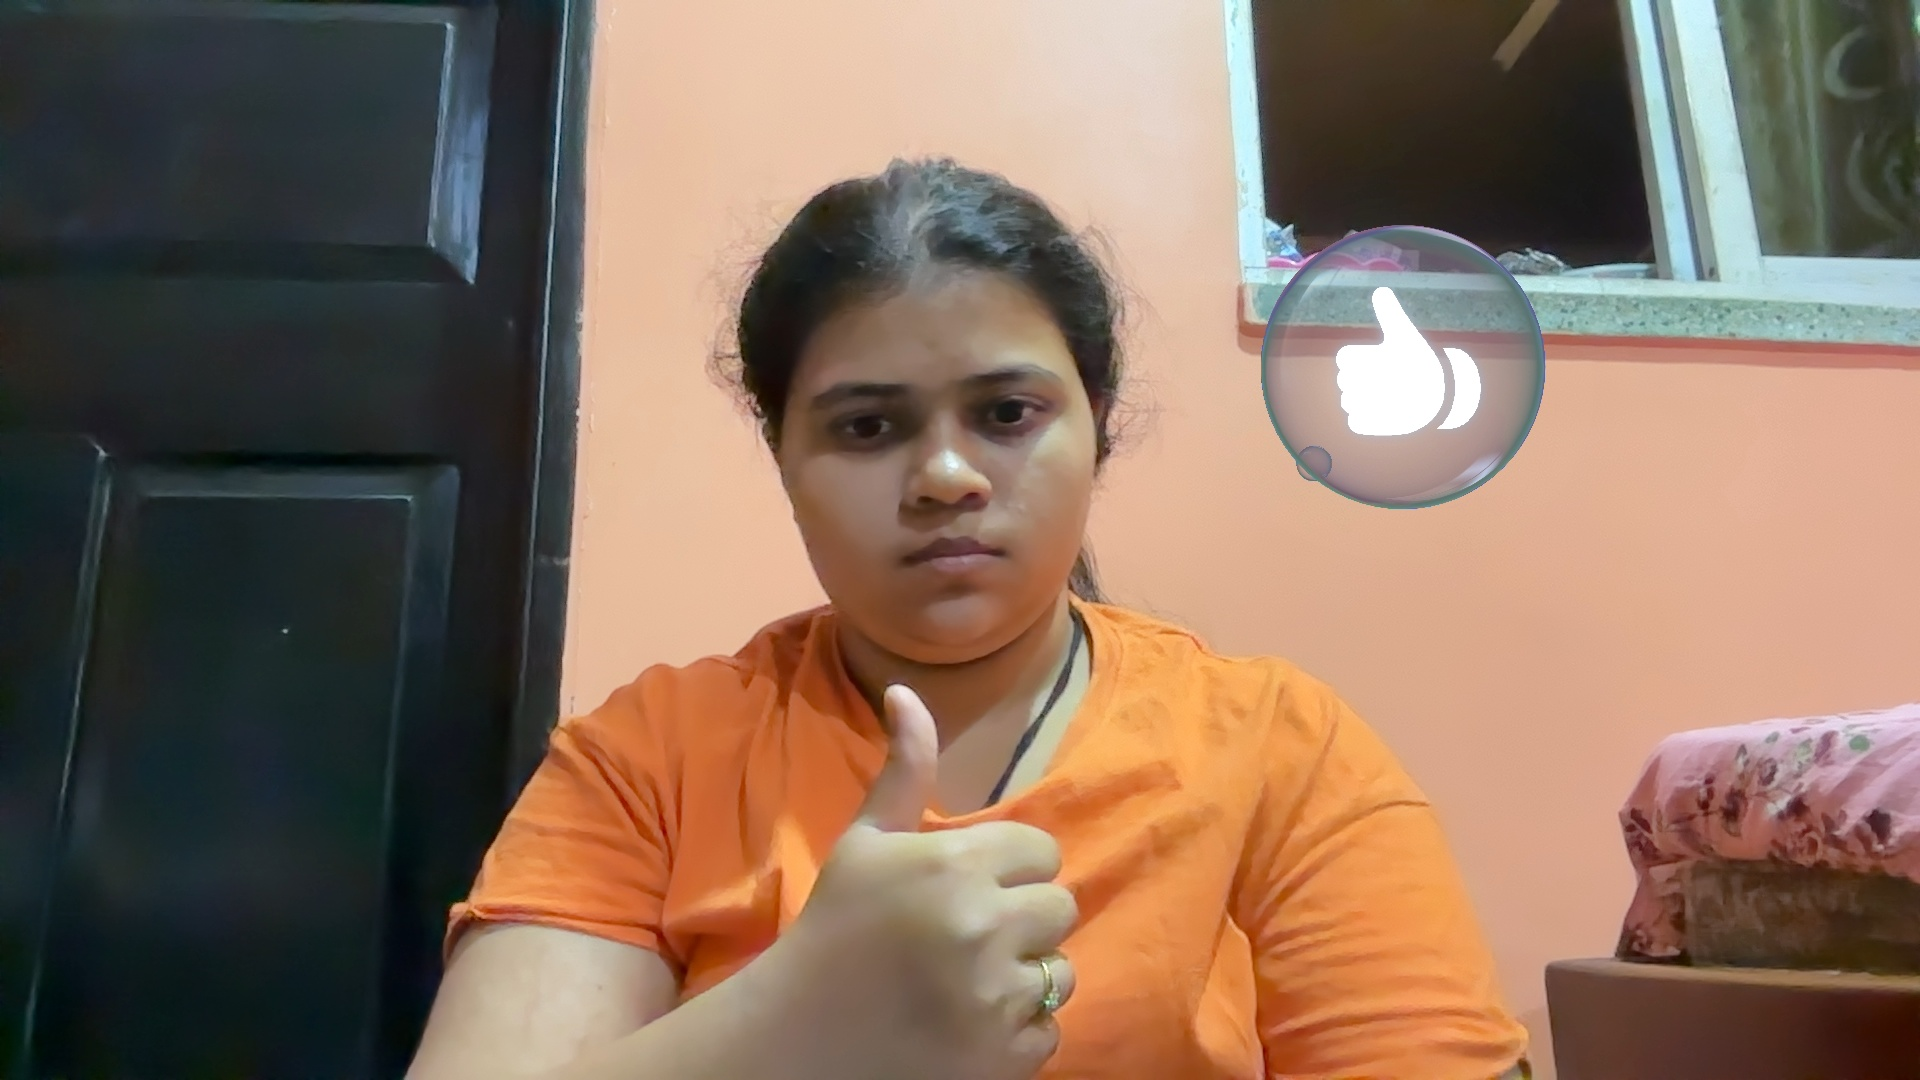help: (745, 673, 1147, 1080)
